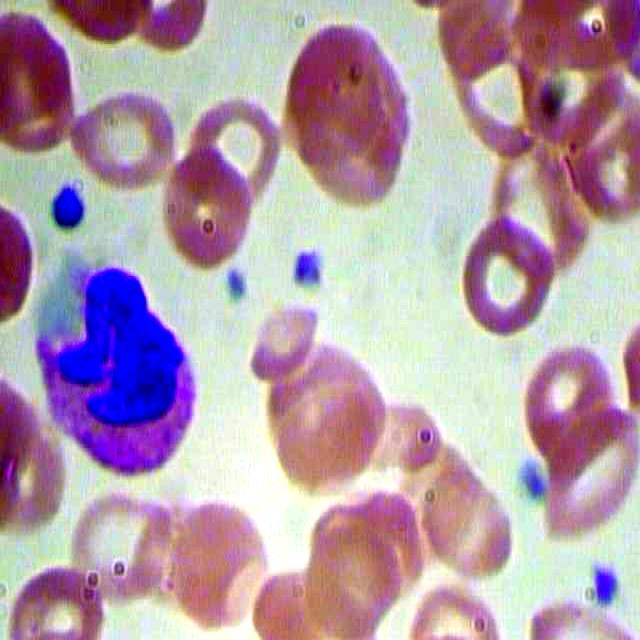Platelets: (38, 172, 87, 239), (281, 243, 326, 300), (507, 453, 547, 503), (585, 559, 624, 608)
RBC: (537, 399, 640, 552), (168, 499, 270, 636), (61, 84, 185, 193), (456, 214, 564, 334), (156, 149, 256, 275), (7, 560, 107, 640), (238, 304, 320, 379)
WBC: (15, 241, 209, 483)
